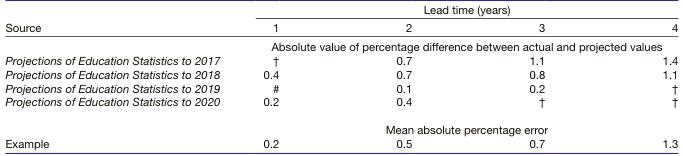table: (4, 4, 677, 149)
table column: (4, 4, 240, 149), (336, 4, 469, 149), (469, 4, 602, 149), (240, 4, 336, 149), (602, 4, 677, 149)
table column header: (4, 4, 677, 53)
table row: (4, 95, 677, 116), (4, 116, 677, 137), (4, 18, 677, 37), (4, 37, 677, 53), (4, 4, 677, 18), (4, 53, 677, 67), (4, 67, 677, 81), (4, 81, 677, 95), (4, 137, 677, 149)
table spanning cell: (4, 4, 240, 53), (4, 95, 240, 137), (240, 116, 677, 137), (240, 37, 677, 53), (240, 4, 677, 18)
